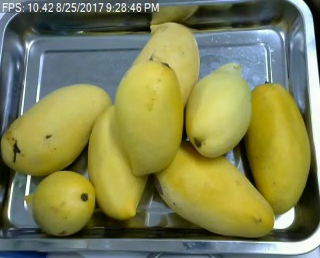Mango: (152, 135, 275, 237), (0, 82, 112, 175), (244, 83, 310, 213), (114, 62, 183, 176), (87, 105, 149, 220), (185, 62, 252, 157), (128, 22, 200, 108), (29, 170, 94, 237)
